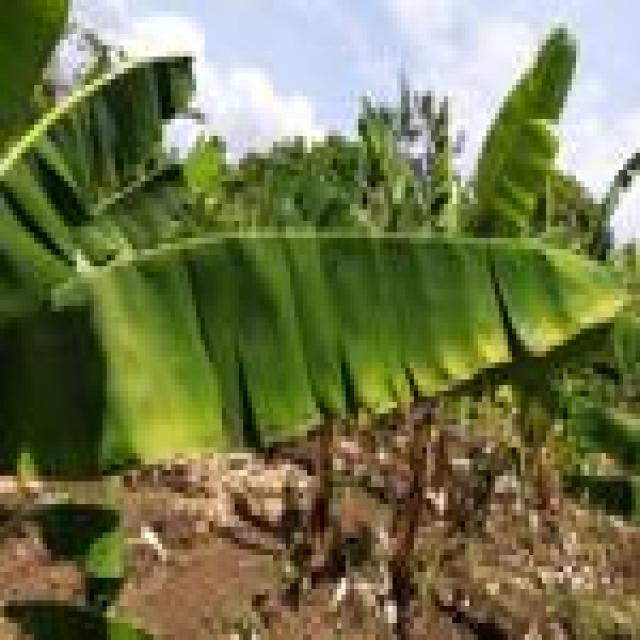Early_rust: (294, 142, 640, 430)
